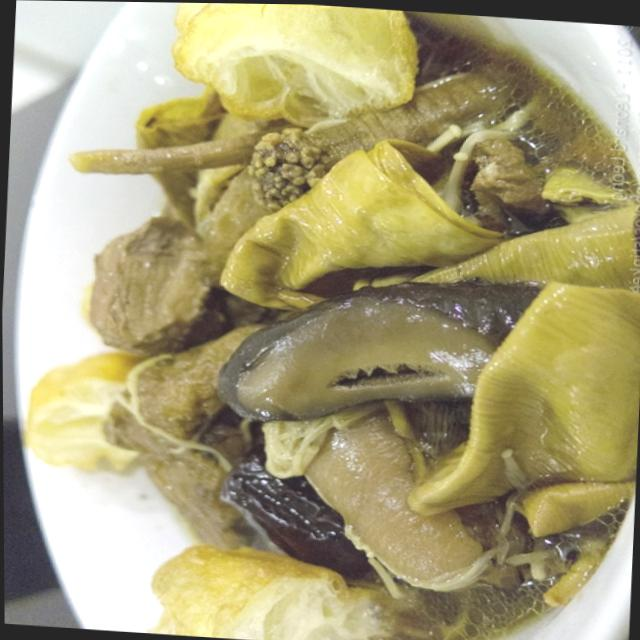汤锅炖物: (16, 0, 640, 640)
